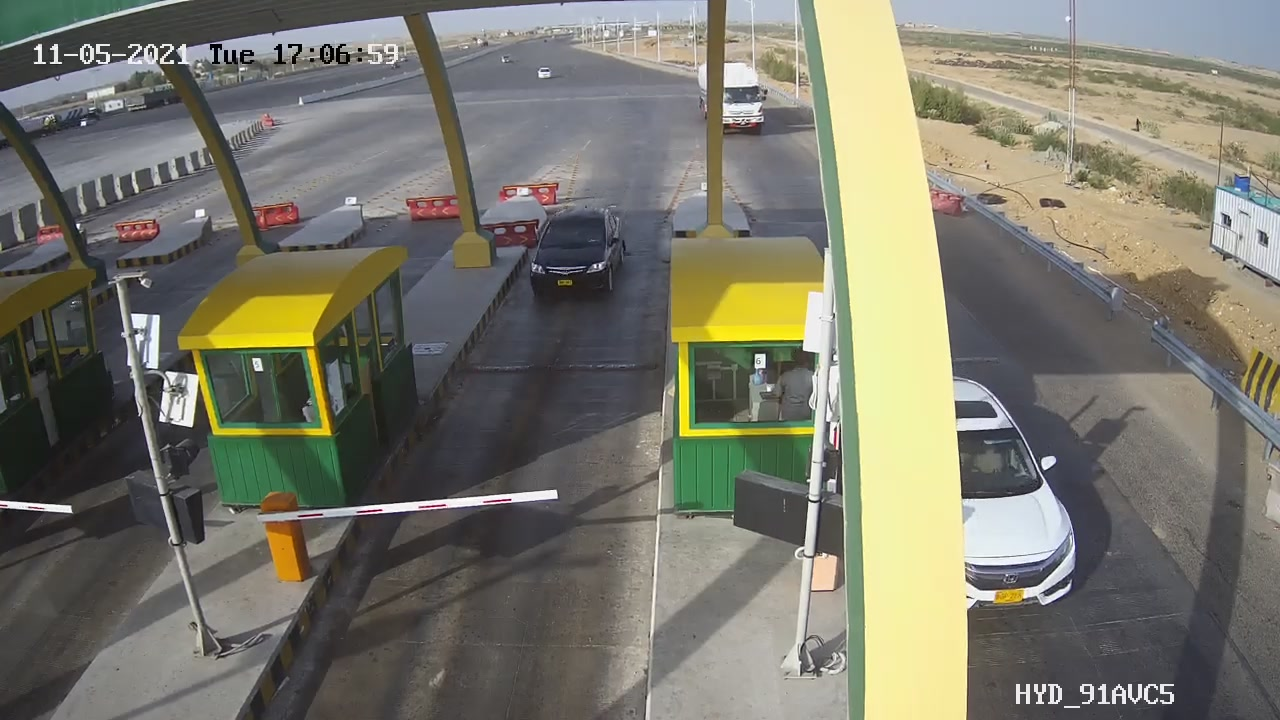F1: (511, 195, 646, 318)
